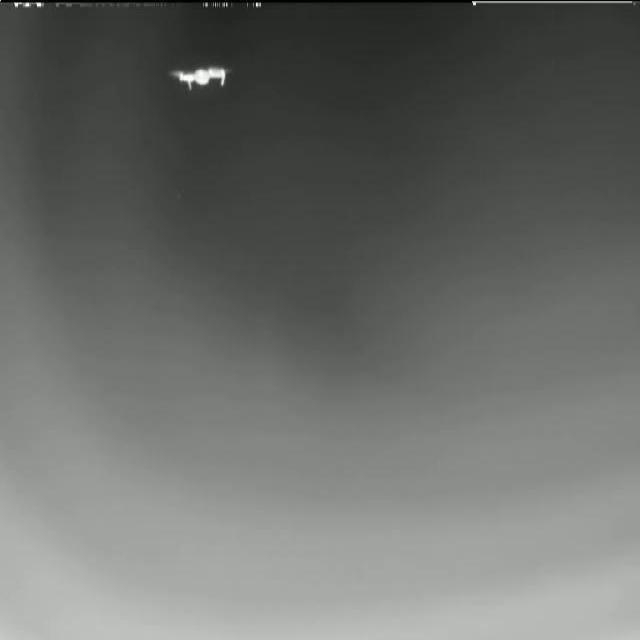DRONE: (165, 62, 233, 92)
